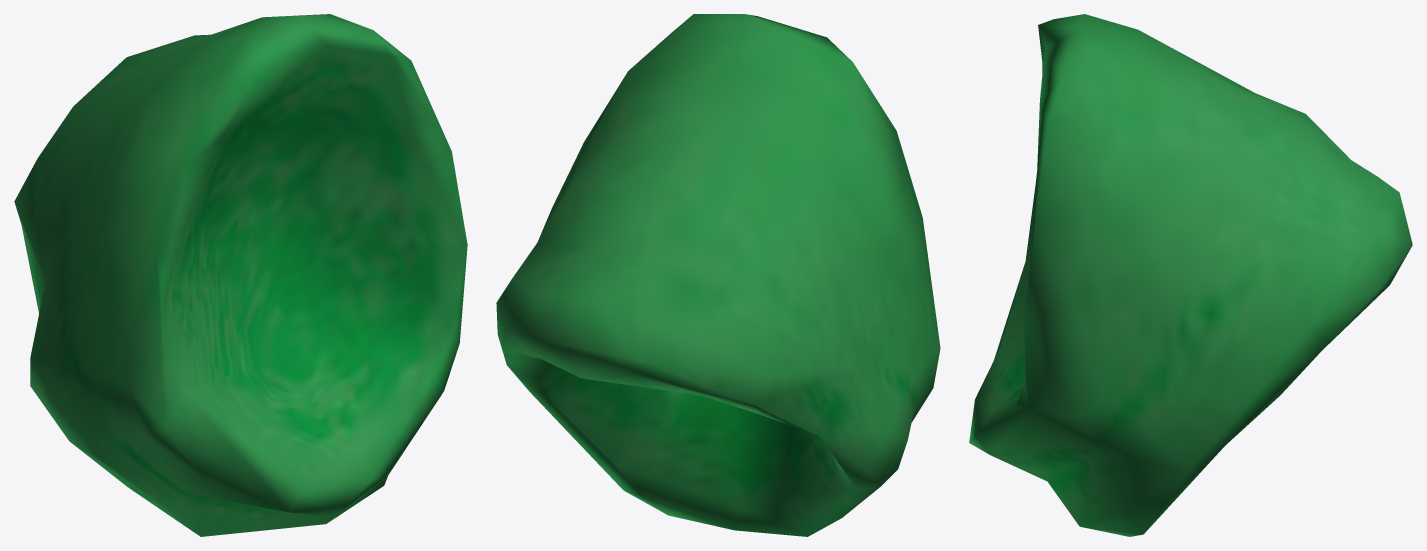
The model's file is Laryngeal_Cartilages_Circoid.glb.
3 renders of one model, left to right at view 1: azimuth 30°, elevation 25°; view 2: azimuth 150°, elevation 25°; view 3: azimuth 270°, elevation 25°, orthographic. The views are drawn at different scales.
Parts seen in each view (by area): view 1: laryngeal_cartilages_cricoid.001; view 2: laryngeal_cartilages_cricoid.001; view 3: laryngeal_cartilages_cricoid.001.
Part boxes in pixels (bbox=[...]): laryngeal_cartilages_cricoid.001: bbox=[14, 14, 467, 536]; laryngeal_cartilages_cricoid.001: bbox=[496, 14, 940, 536]; laryngeal_cartilages_cricoid.001: bbox=[969, 14, 1412, 536].
Bounding box in the file's own units: 0.0521 × 0.0698 × 0.0578.
1 material, 1 textured.
